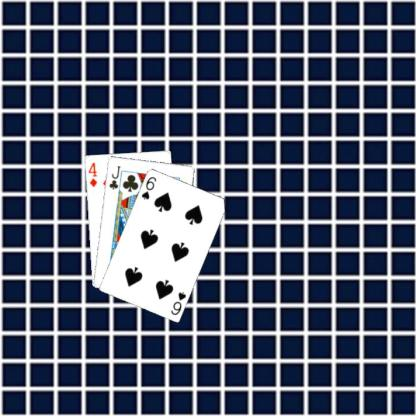4D: (86, 160, 98, 188)
6S: (138, 174, 158, 200), (168, 289, 187, 316)
JC: (107, 163, 122, 190)
